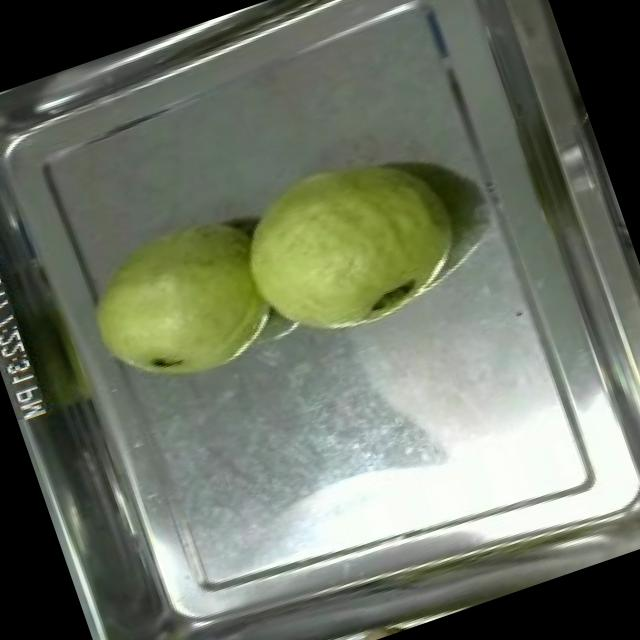Fruit: (215, 126, 481, 364), (64, 195, 294, 413)
